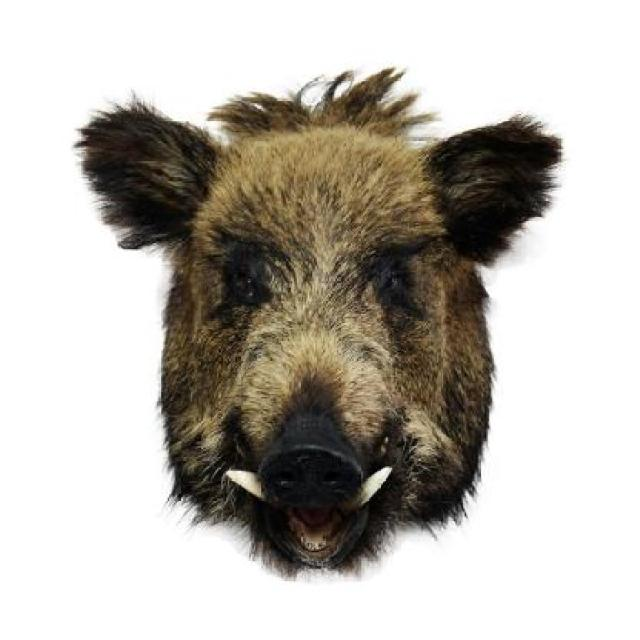wildboar: (65, 58, 567, 584)
